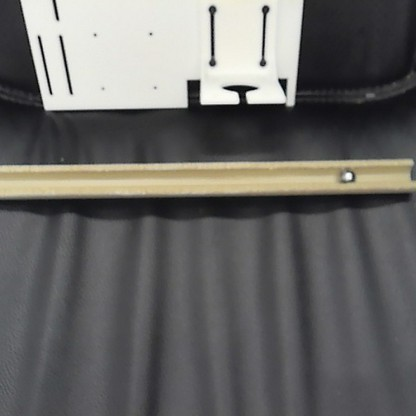ironball: (337, 167, 354, 183)
